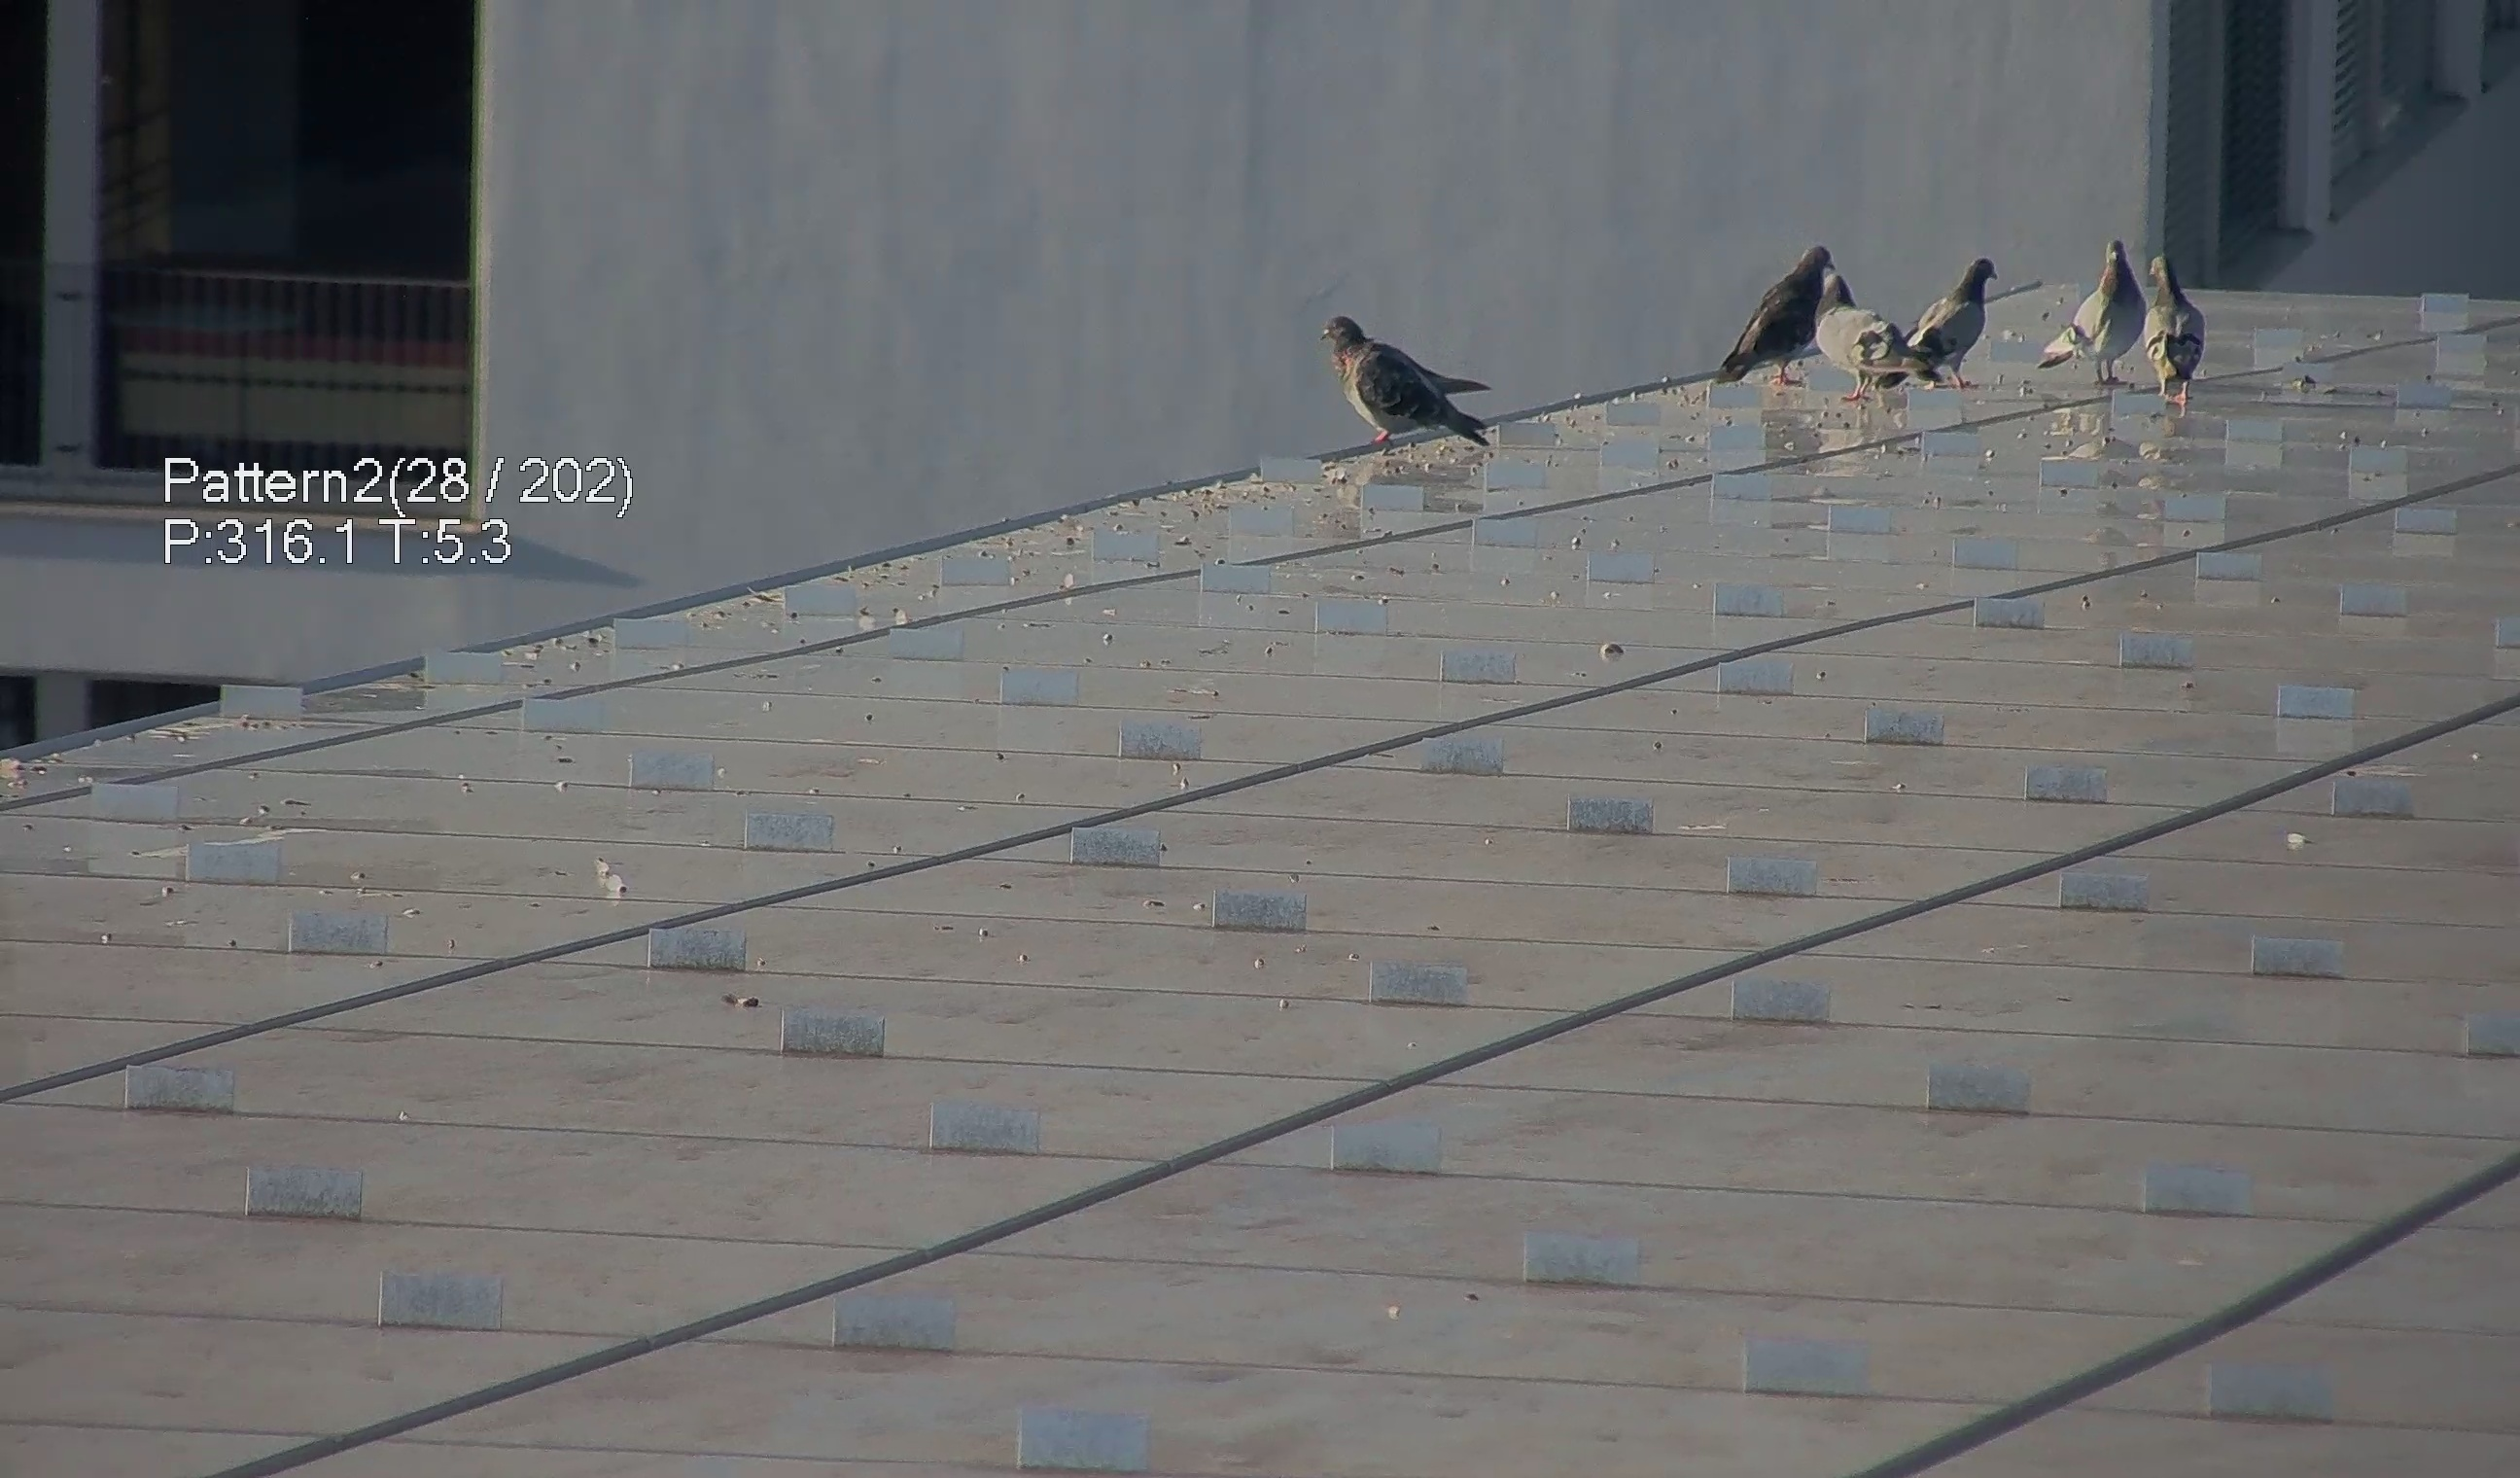Pigeon: (1312, 297, 1504, 454), (1715, 234, 1866, 392), (1901, 243, 2019, 384), (1813, 269, 1936, 401), (2043, 243, 2159, 373), (2145, 248, 2219, 412)
